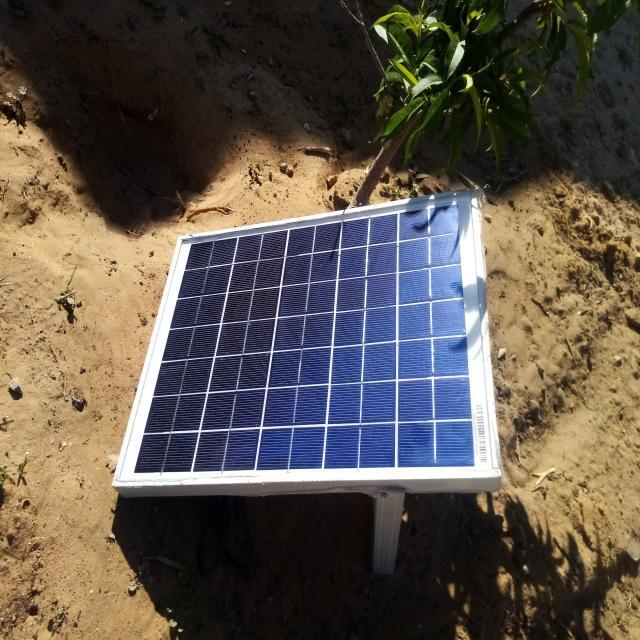no faulty: (111, 193, 502, 490)
